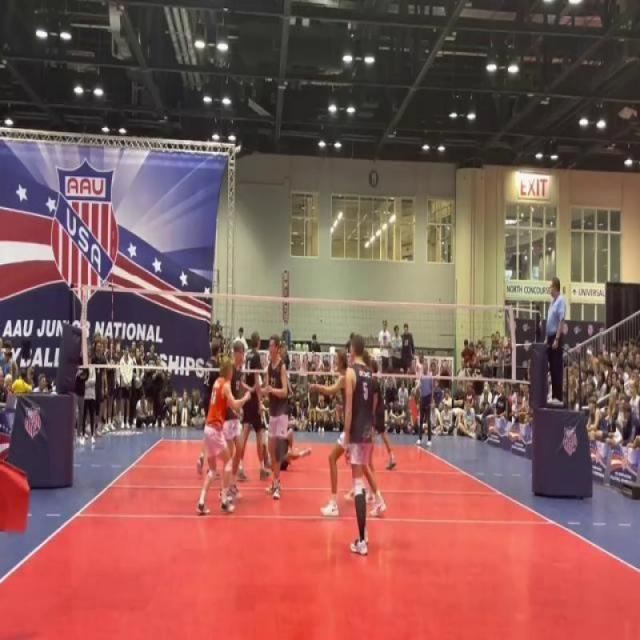volleyball: (317, 360, 325, 373)
